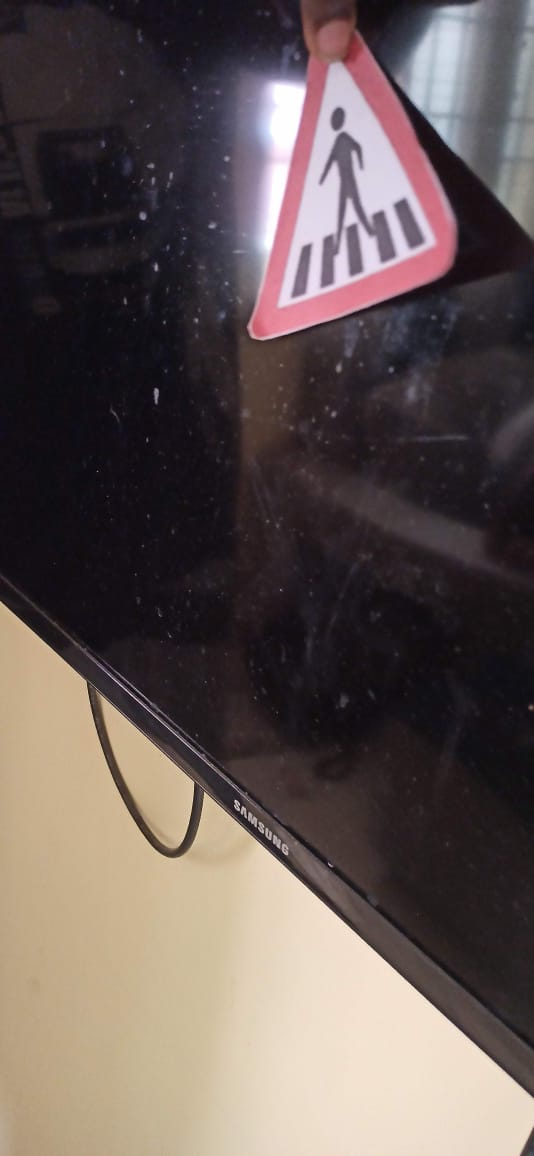PEDESTRIAN CROSSING: (243, 14, 492, 314)
